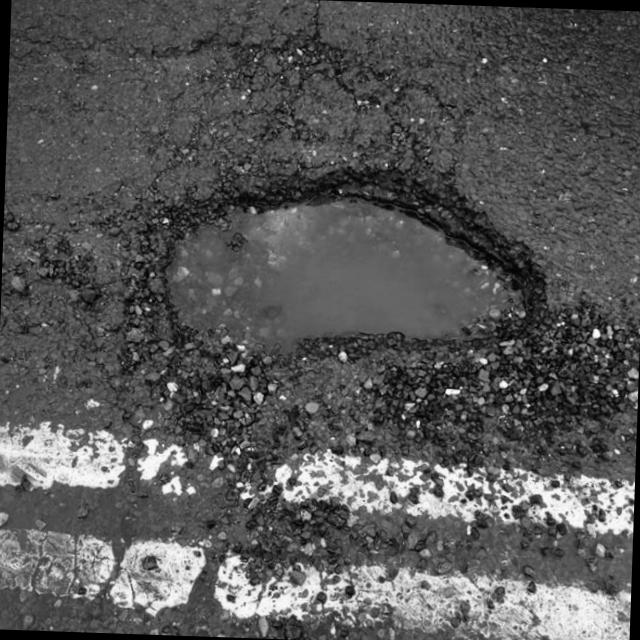Pothole: (94, 144, 556, 432)
